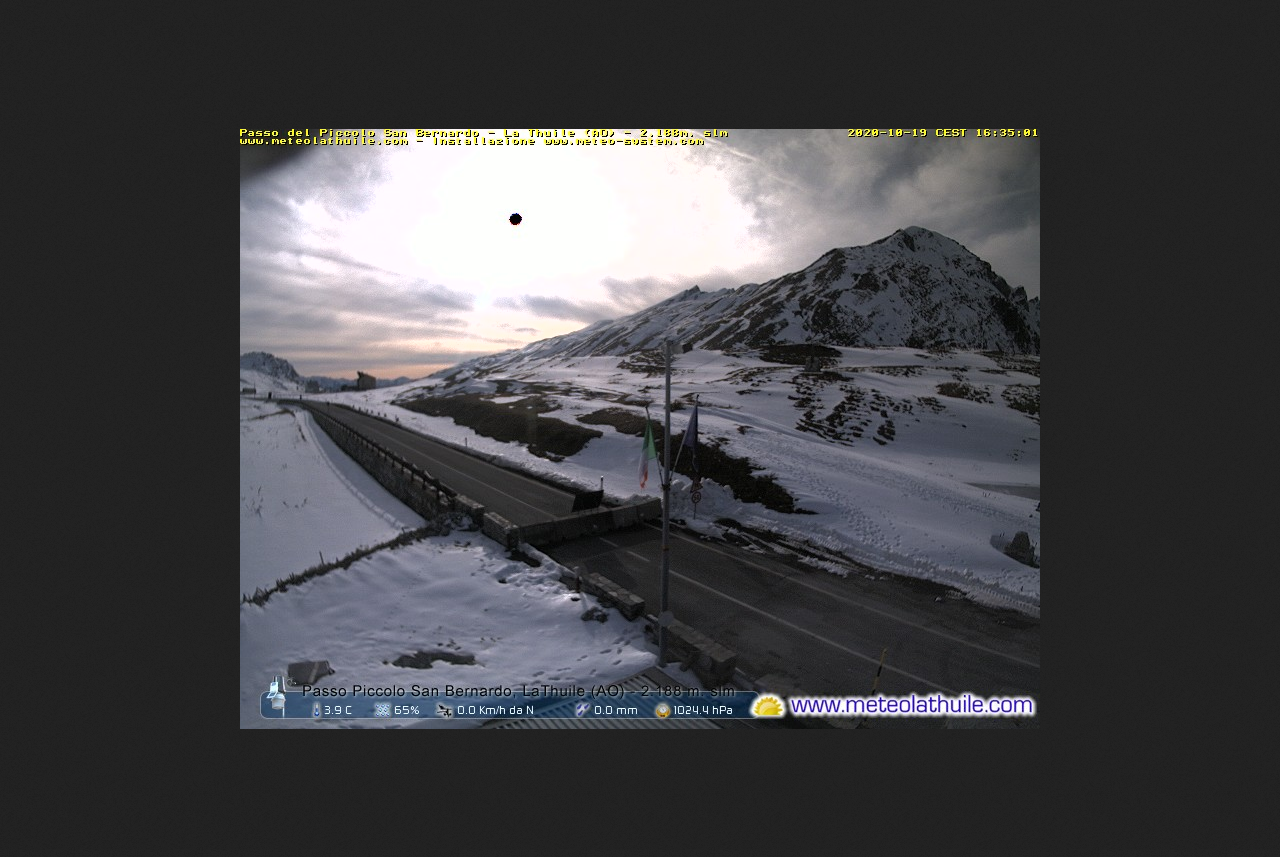no: (669, 388, 710, 493), (630, 403, 663, 492)
